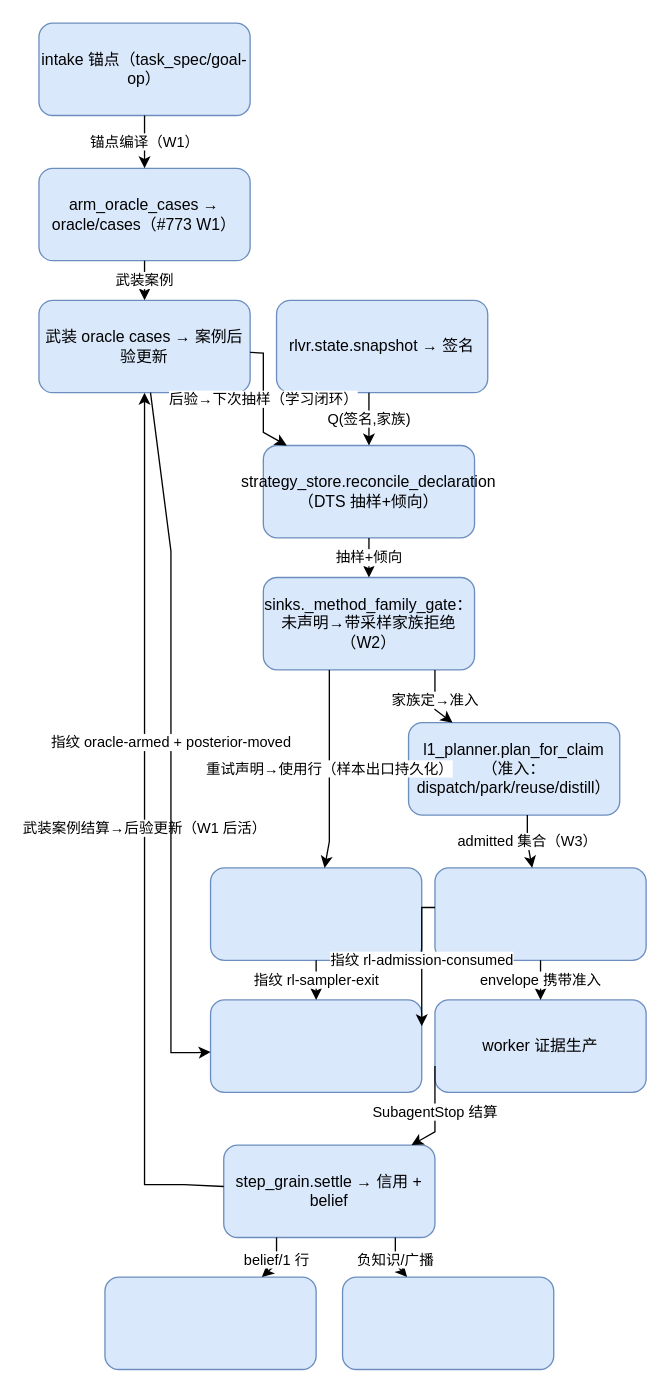
The diagram is 669 pixels wide and 1393 high, and some of its shapes have lost their labels. Here are the shapes that lost their labels. From the top down, the box of each, then its label:
(209, 867, 422, 960): method-family-log 使用行（sampled_family+倾向）
(434, 867, 646, 960): plan-receipts.jsonl（W3）
(209, 999, 422, 1092): W4 冒烟：五指纹翻绿（待跑，预算门）
(104, 1276, 316, 1370): rlvr.belief（settle 步记录，declared_unknown → bf 维）
(341, 1276, 554, 1370): crystallize（负知识+解法广播）
